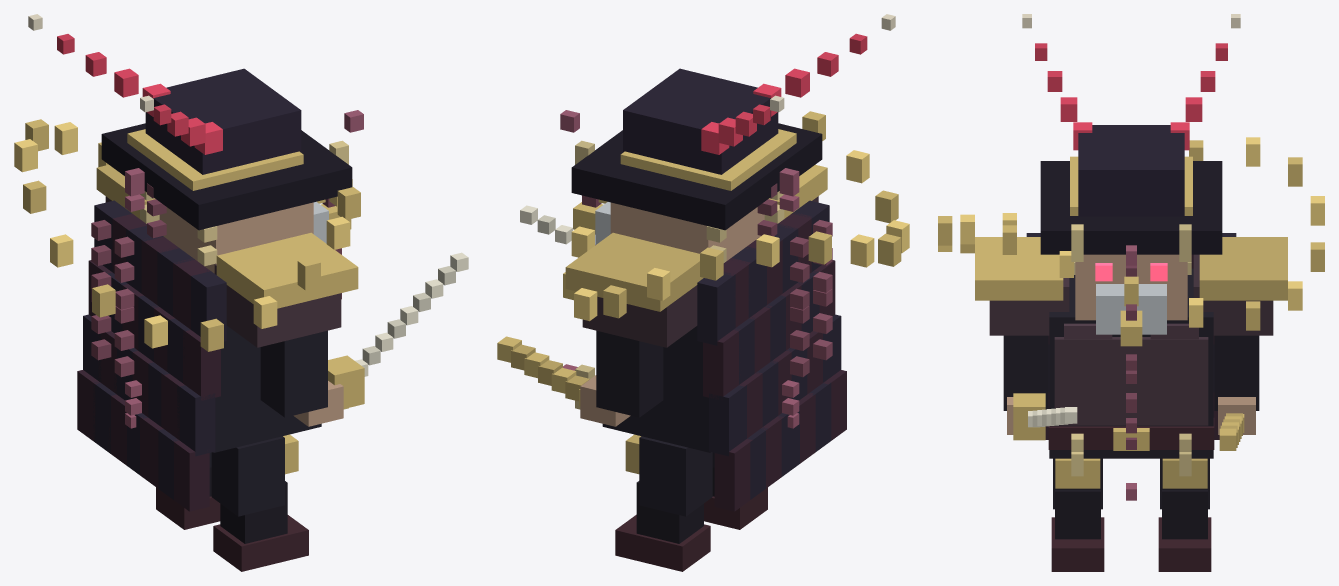
File: bandit-syndicate-king.glb
3 views of the same model, side by side, from view 1: azimuth 30°, elevation 25°; view 2: azimuth 150°, elevation 25°; view 3: azimuth 270°, elevation 25° (orthographic). The views are drawn at different scales.
Visible parts, largest first — view 1: Cloak, Hat, Boots, Shoulders, BannerCrest, Torso, Scales, Arms, Head, Plumes, Crest, Trim (+3 smaller); view 2: Cloak, Hat, Boots, Shoulders, BannerCrest, Torso, Scales, Arms, Head, Plumes, Crest, Trim (+5 smaller); view 3: Hat, Armor, Shoulders, Boots, BannerCrest, Arms, Torso, Head, Plumes, Mask, Trim, Scales (+8 smaller).
Part boxes in pixels (x1,y1,x2,y2): Cloak: (77, 200, 226, 511); Hat: (101, 68, 352, 230); Boots: (156, 434, 308, 571); Shoulders: (96, 164, 358, 347); BannerCrest: (14, 119, 360, 351); Torso: (213, 326, 321, 452); Scales: (91, 140, 348, 409); Arms: (260, 330, 327, 417); Head: (159, 202, 313, 273); Plumes: (28, 14, 222, 154); Crest: (127, 129, 303, 190); Trim: (125, 110, 363, 428); Cloak: (697, 200, 846, 511); Hat: (571, 68, 822, 230); Boots: (615, 434, 767, 571); Shoulders: (565, 164, 827, 347); BannerCrest: (563, 111, 909, 321); Torso: (602, 326, 711, 452); Scales: (575, 140, 832, 409); Arms: (596, 330, 663, 417); Head: (610, 202, 764, 260); Plumes: (701, 14, 895, 154); Crest: (620, 129, 796, 190); Trim: (560, 110, 799, 428); Hat: (1040, 125, 1222, 254); Armor: (1048, 323, 1214, 449); Shoulders: (975, 237, 1287, 335); Boots: (1051, 458, 1211, 571); BannerCrest: (938, 137, 1324, 330); Arms: (1003, 335, 1259, 410); Torso: (1049, 268, 1213, 458); Head: (1075, 254, 1187, 320); Plumes: (1022, 14, 1240, 150); Mask: (1096, 284, 1166, 334); Trim: (1113, 245, 1149, 500); Scales: (1071, 224, 1191, 476).
Size of the model in its own units: 5.3 by 6.8 by 5.01.
